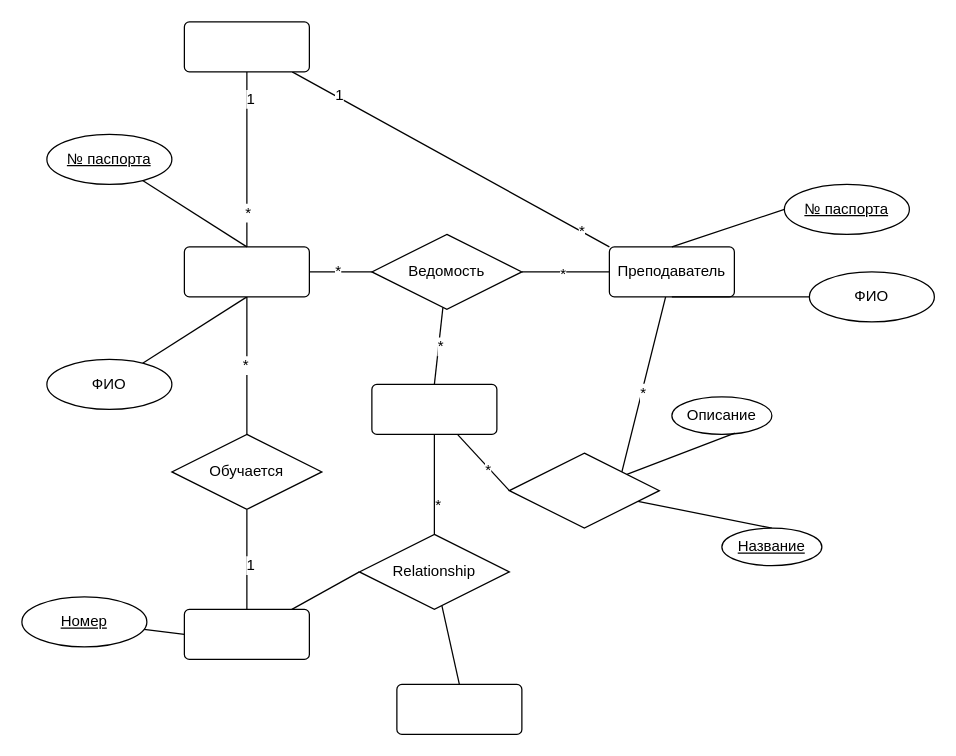
Some shapes in this 956 by 756 pixel diagram are drawn without their labels. Here are the shapes that lost their labels. From the top down, the box of each, then its label:
(183, 21, 309, 72): Директор
(183, 246, 309, 297): Студент
(371, 383, 497, 434): Дисциплина
(508, 452, 659, 528): Нагрузка
(183, 608, 309, 659): Группа
(396, 683, 522, 734): Вид занятий
